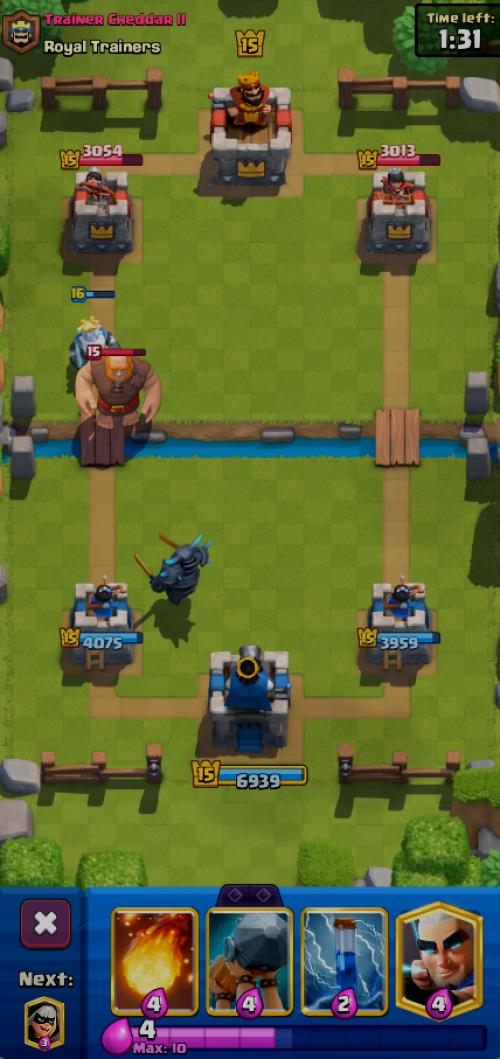Enemy-Giant: (74, 355, 162, 430)
Enemy-KingTower: (211, 74, 291, 187)
Enemy-PrincessTower: (367, 168, 430, 254), (69, 168, 132, 252)
